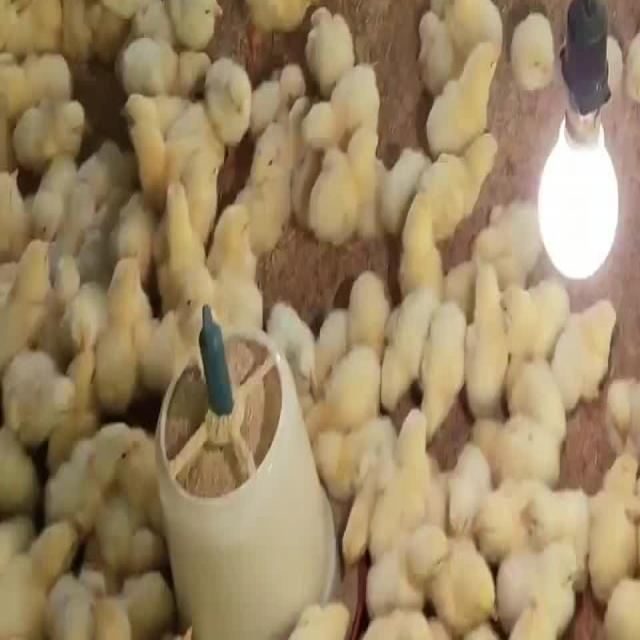poussin: (0, 524, 78, 636), (424, 45, 501, 150), (366, 526, 453, 618), (504, 359, 566, 482), (328, 429, 386, 560), (0, 234, 57, 364), (494, 551, 584, 633), (418, 139, 503, 225), (588, 454, 640, 587), (307, 346, 383, 436), (0, 358, 85, 438), (415, 306, 467, 436), (555, 300, 628, 392), (374, 296, 426, 421), (465, 262, 507, 414), (114, 37, 212, 101), (433, 544, 505, 631), (78, 573, 171, 640), (11, 100, 100, 169), (387, 404, 431, 542), (86, 430, 140, 542), (100, 264, 143, 402), (299, 78, 377, 151), (118, 93, 177, 189), (502, 271, 564, 356), (394, 201, 449, 296), (35, 161, 93, 245), (265, 302, 320, 387), (55, 279, 110, 363), (203, 57, 256, 141), (156, 182, 203, 274), (310, 148, 354, 246), (517, 490, 591, 548), (305, 9, 360, 87), (507, 12, 558, 96), (475, 477, 530, 552), (446, 449, 490, 538), (181, 144, 230, 222), (181, 284, 264, 330), (106, 186, 154, 263), (165, 0, 229, 55), (422, 1, 502, 44), (214, 200, 252, 285), (0, 165, 34, 260), (0, 433, 45, 500), (354, 139, 384, 239), (244, 131, 290, 196), (138, 306, 176, 384), (349, 274, 384, 352), (246, 200, 293, 253)
